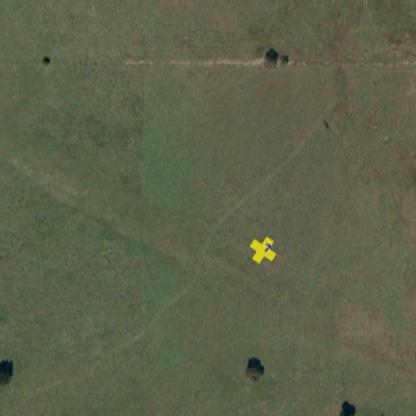7: (264, 242, 271, 253)
plus: (248, 236, 276, 264)
